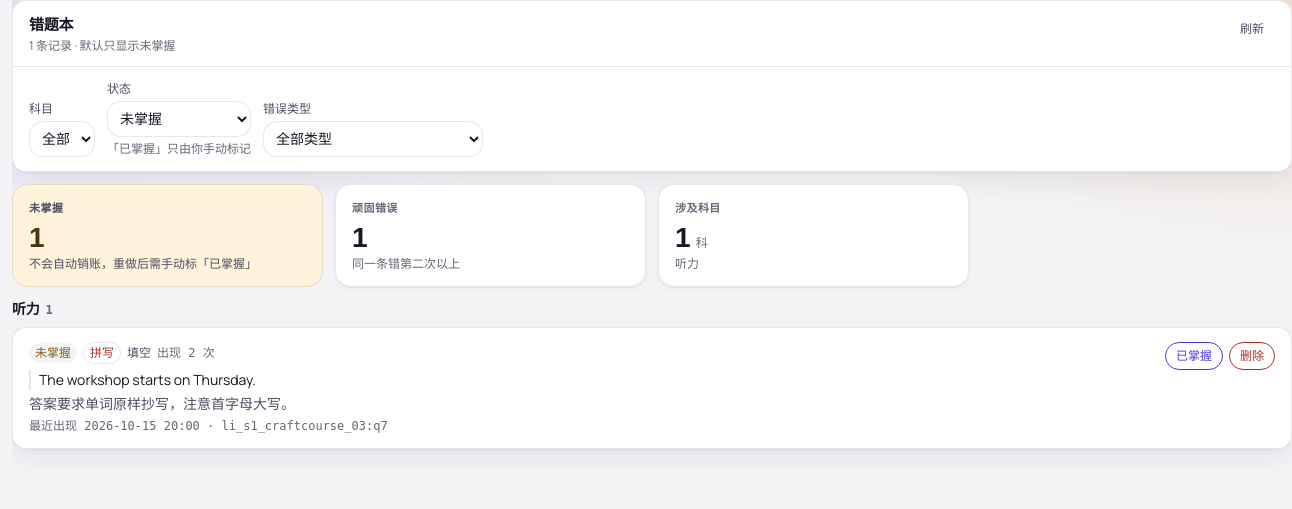
Scenario: AC-V2 手动动作 › 操作失败时中文错误可见，不把失败吞掉
Expected: the text "The workshop starts on Thursday." is shown, [29,370,1153,390]
Click the button "已掌握" at (1194, 356), box [1165,342,1223,370]
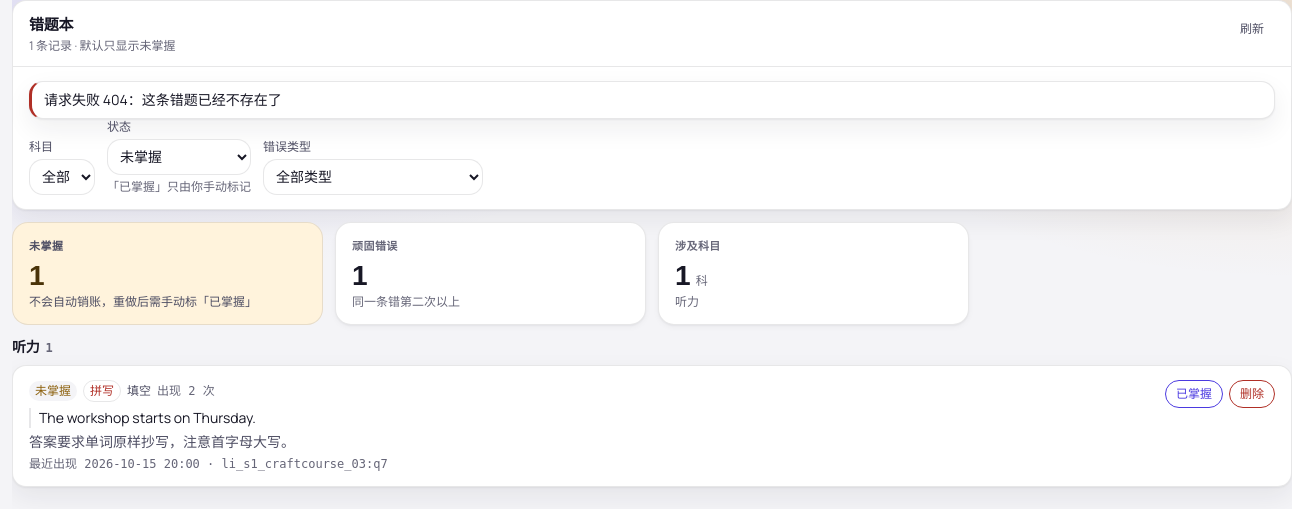
Expected: the message shows "这条错题已经不存在了", [44,90,282,109]
